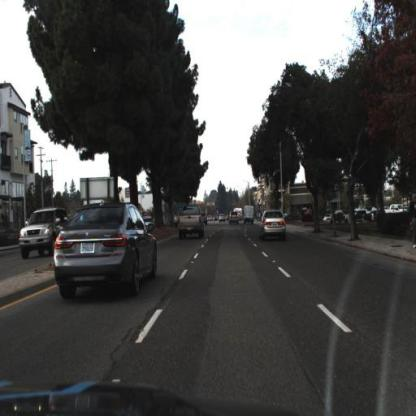car: (50, 195, 162, 306), (20, 207, 72, 261), (172, 200, 209, 247), (256, 205, 290, 246), (241, 201, 258, 228), (226, 208, 243, 229)
